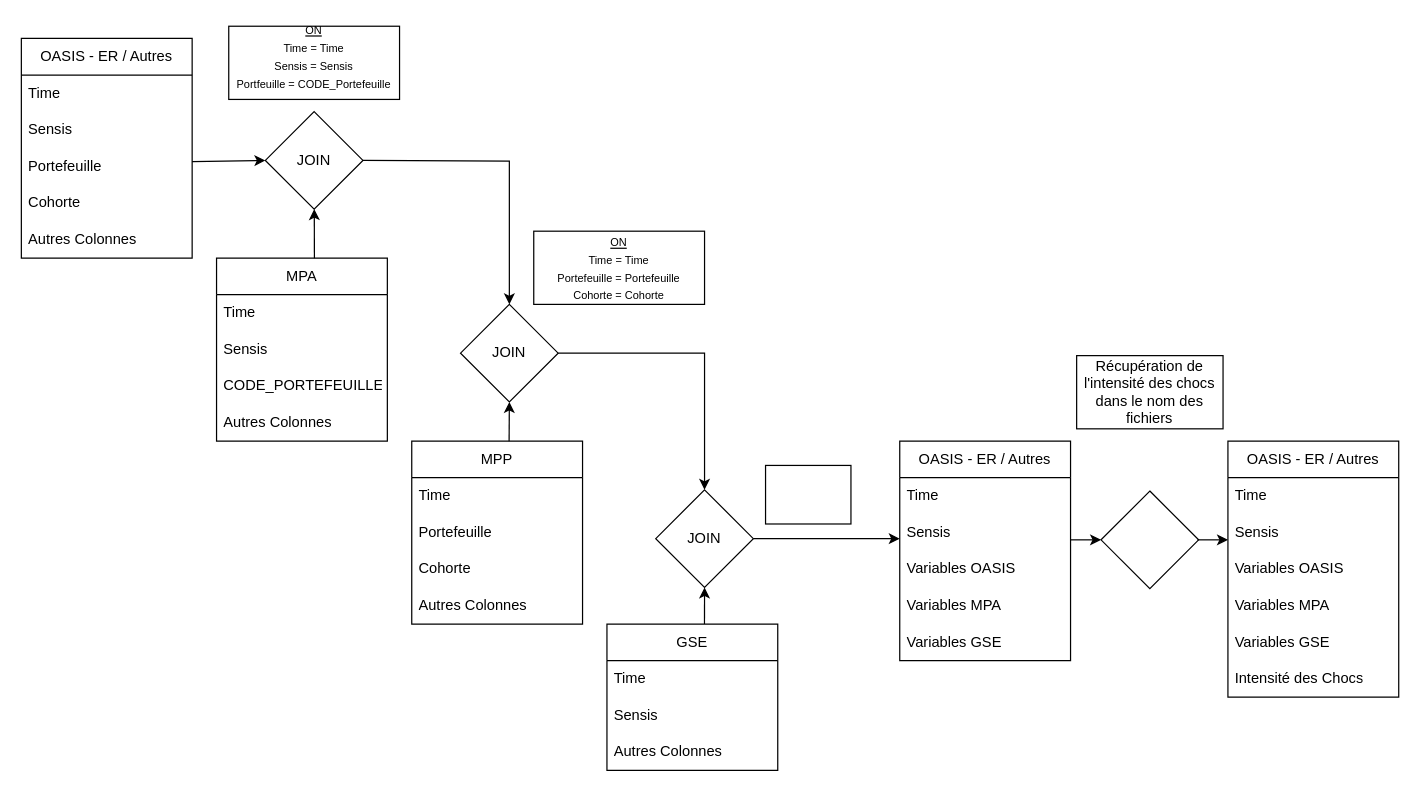
The diagram is 1420 pixels wide and 792 high, and some of its shapes have lost their labels. The shapes that lost their labels are listed below. From the top down, each one's centre as x and y in pixels, then its label:
At [807,494]: "ON Time = Time Sensis = Sensis".
At [1149,539]: "EXTEND".
